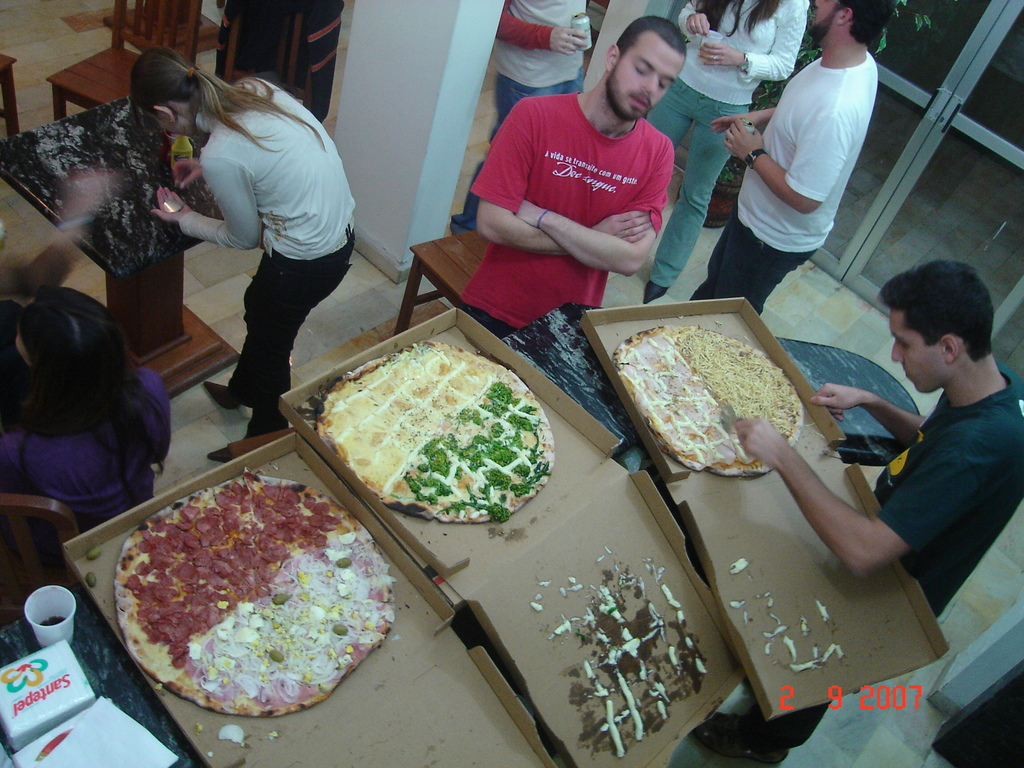Pizza: (110, 478, 417, 725), (312, 329, 569, 531), (597, 308, 819, 490)
